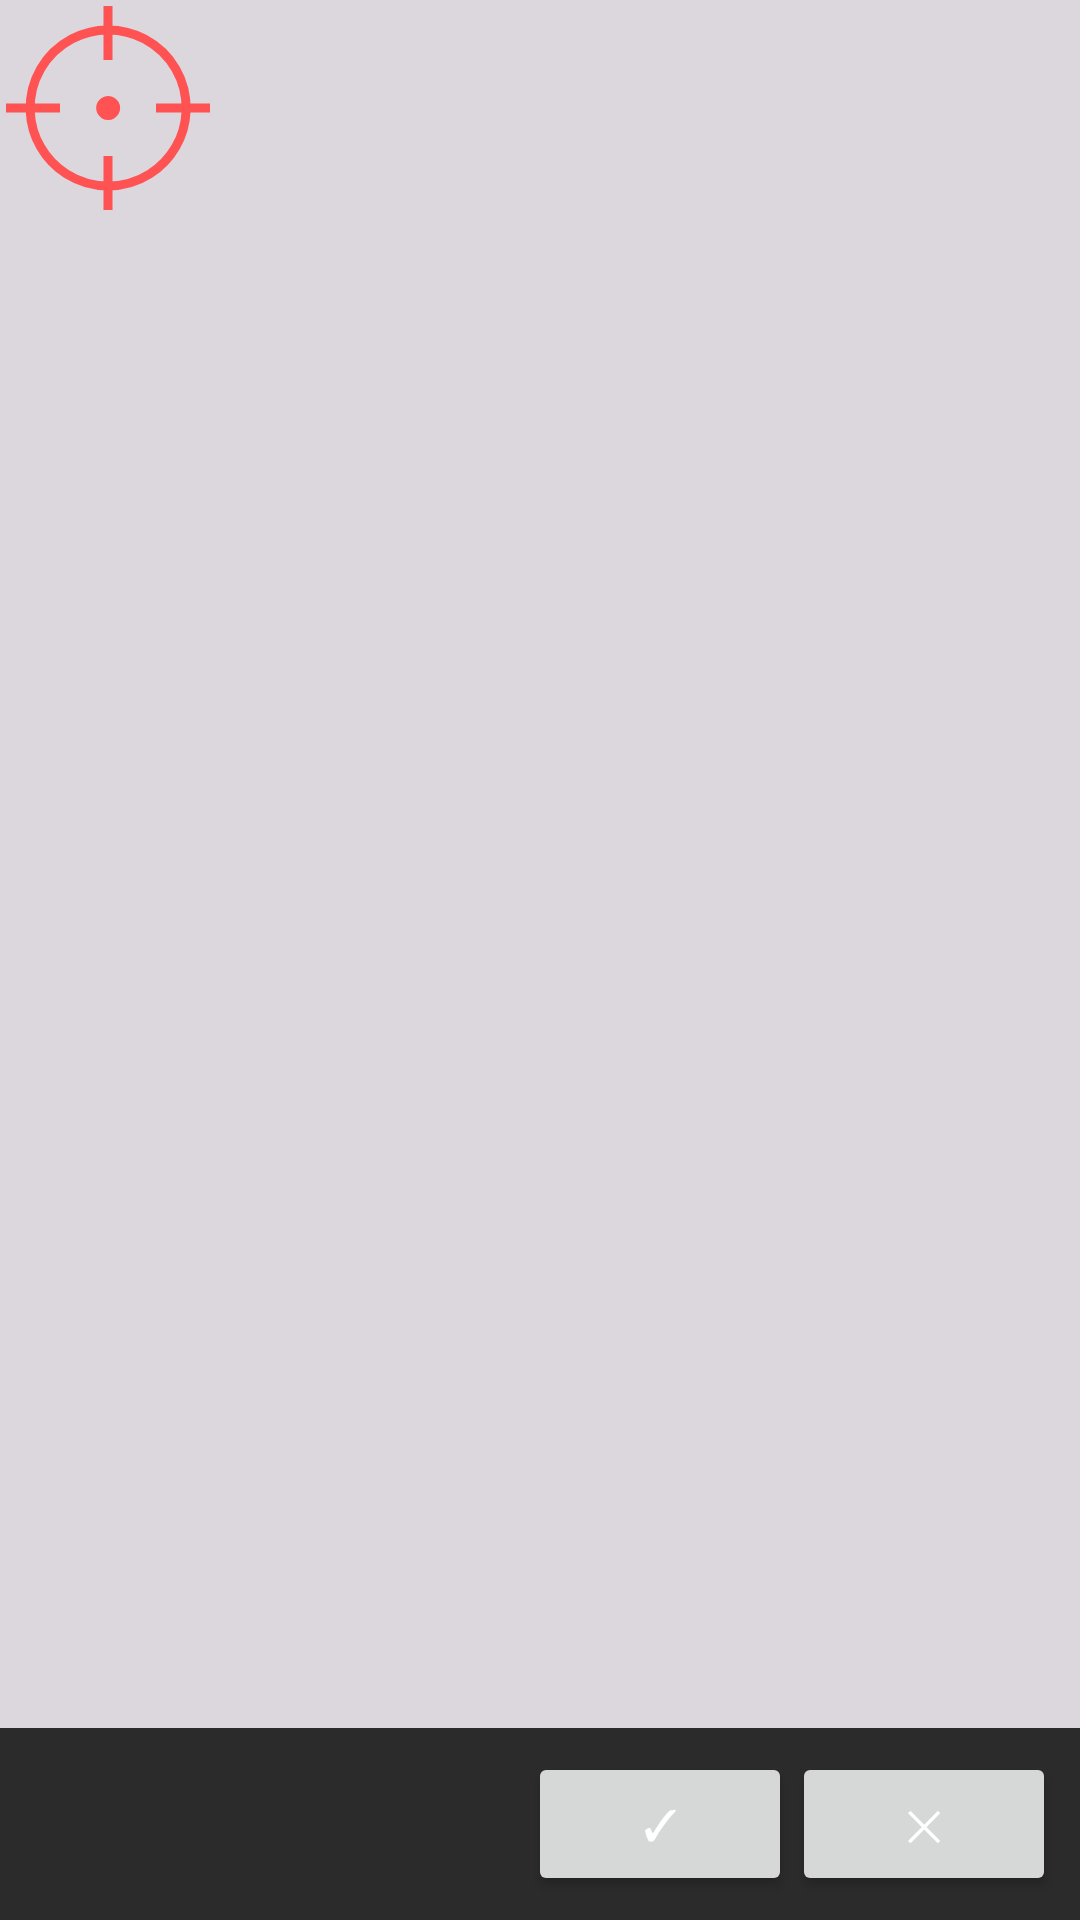

Icon bounding boxes for this 1080px x 1920px phone screenshot, format (x1, y1, x2, y2):
crosshair: (6, 6, 210, 210)
